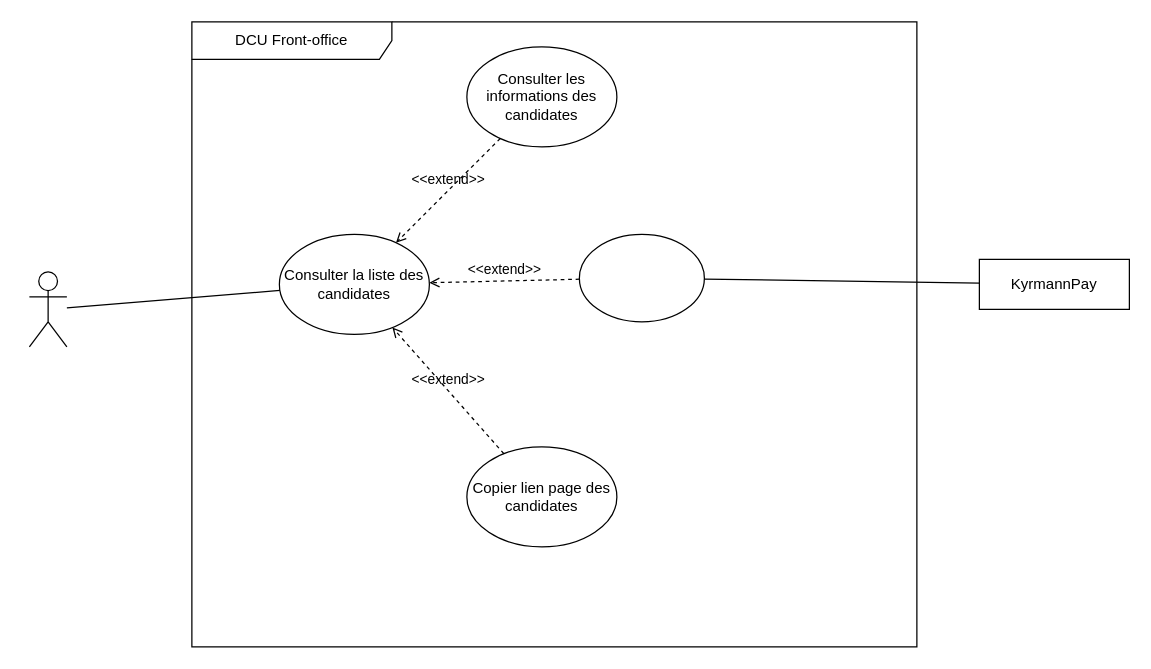
Some shapes in this 1151 by 669 pixel diagram are drawn without their labels. Each missing label, with the centre of its shape:
"CLIENT" goes at pixel 47 309.
"Voter" goes at pixel 641 277.
